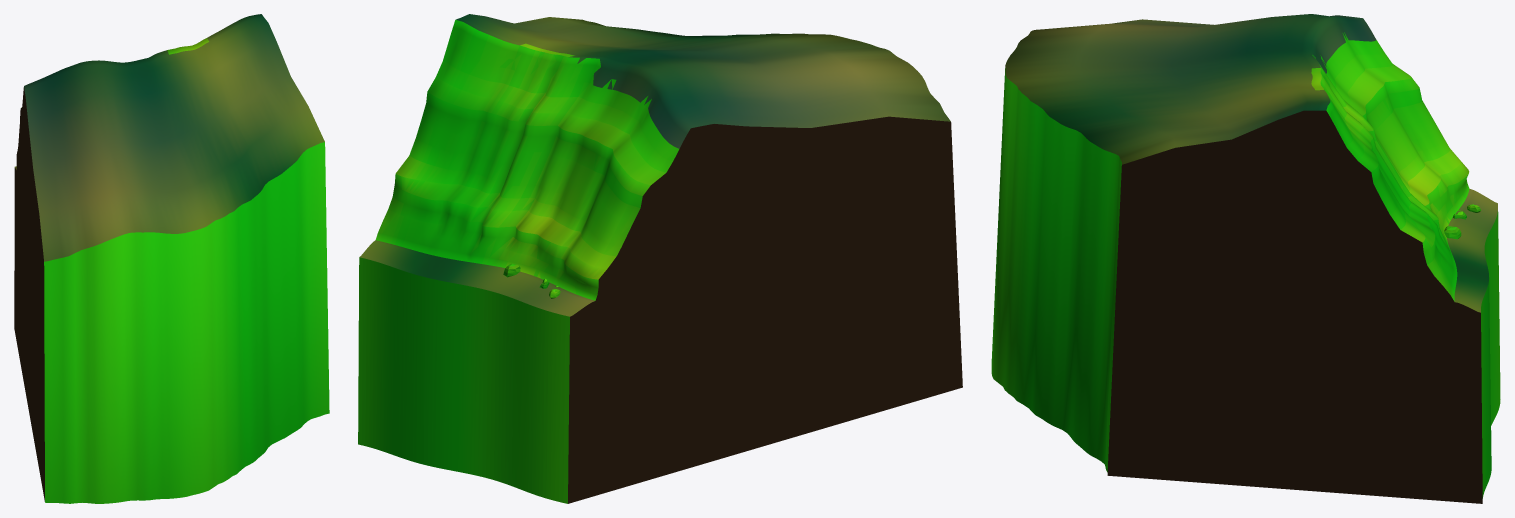
File: SM_ForestRisingCliffs_03.fbx
3 views of the same model, side by side, from view 1: azimuth 30°, elevation 25°; view 2: azimuth 150°, elevation 25°; view 3: azimuth 270°, elevation 25° (orthographic). The views are drawn at different scales.
Parts seen in each view (by area): view 1: SM_ForestRisingCliffs_03; view 2: SM_ForestRisingCliffs_03; view 3: SM_ForestRisingCliffs_03.
Boxes of the visible parts, x1,y1,x2,y2 form: SM_ForestRisingCliffs_03: (14,14,329,503); SM_ForestRisingCliffs_03: (358,14,962,503); SM_ForestRisingCliffs_03: (991,14,1500,503).
Bounding box in the file's own units: 54.96 × 59.37 × 49.33.
